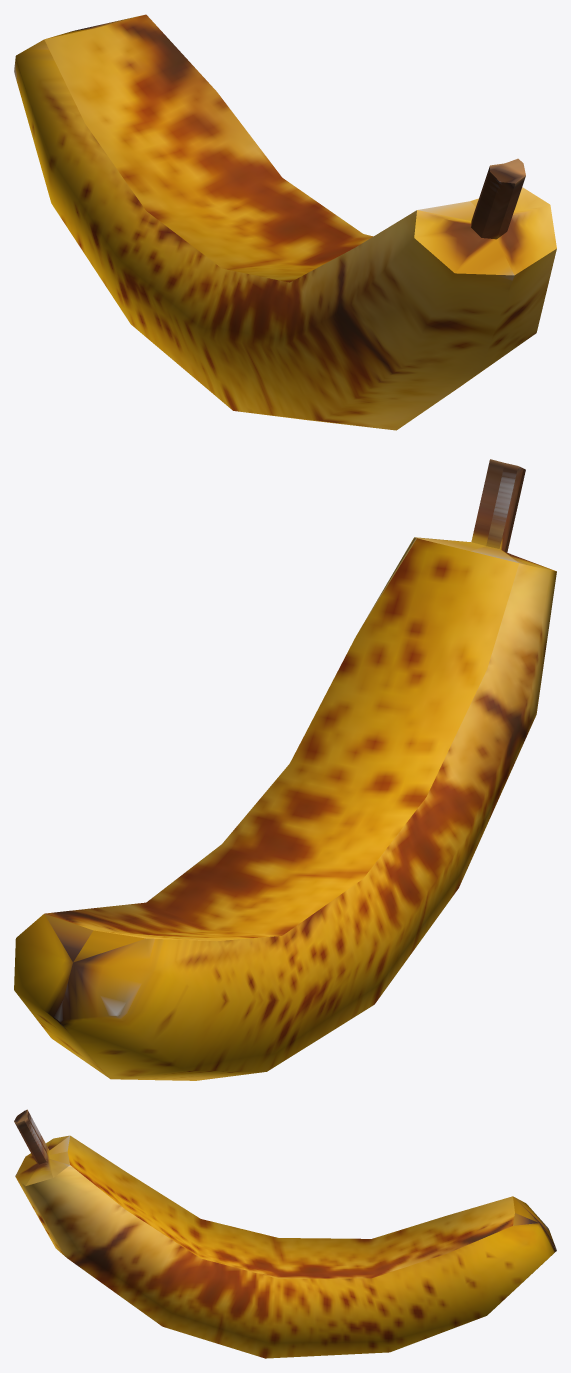
Rendered from Banana.FBX.
3 views of the same model, one above another, from view 1: azimuth 30°, elevation 25°; view 2: azimuth 150°, elevation 25°; view 3: azimuth 270°, elevation 25° (orthographic). The views are drawn at different scales.
Visible parts, largest first — view 1: Banana; view 2: Banana; view 3: Banana.
Boxes of the visible parts, x1=… form: Banana: x1=14, y1=14, x2=556, y2=430; Banana: x1=14, y1=459, x2=556, y2=1080; Banana: x1=14, y1=1109, x2=556, y2=1358.
Bounding box in the file's own units: 1.64 × 3.35 × 6.88.
